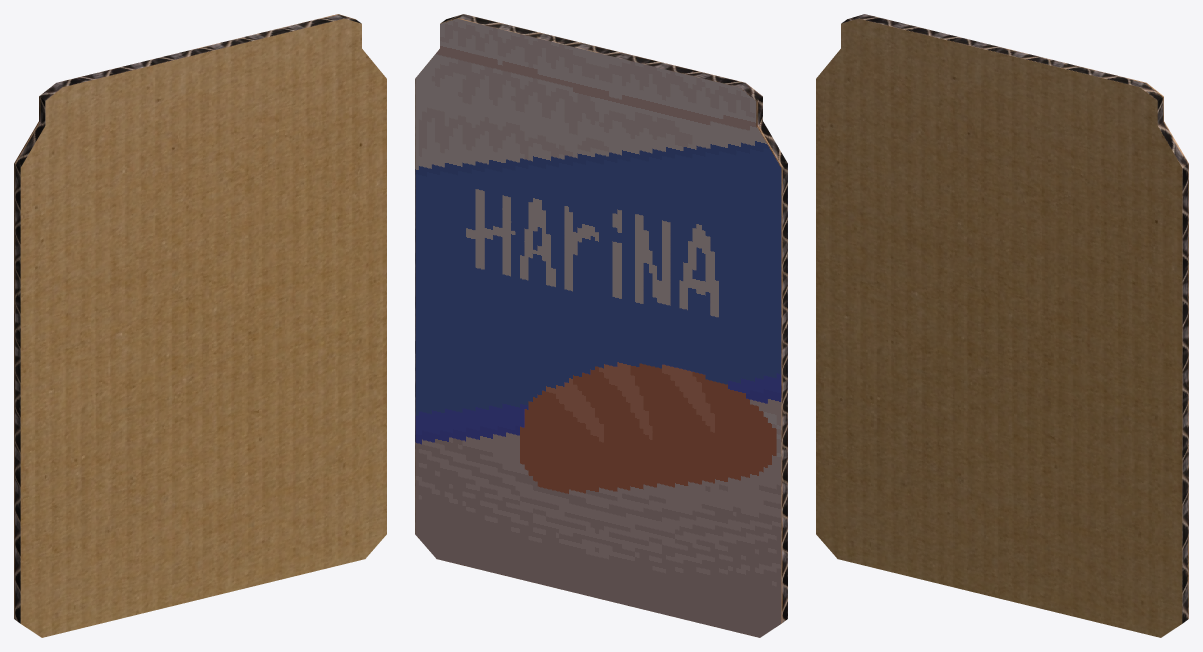
Rendered from HARINA.glb.
3 renders of one model, left to right at view 1: azimuth 30°, elevation 25°; view 2: azimuth 150°, elevation 25°; view 3: azimuth 330°, elevation 25°, orthographic.
Parts seen in each view (by area): view 1: HARINA; view 2: HARINA; view 3: HARINA.
Part boxes in pixels (box(x1,y1,x2,y2)): HARINA: box(14, 14, 386, 637); HARINA: box(415, 14, 787, 637); HARINA: box(816, 14, 1188, 637).
Bounding box in the file's own units: 2.97 × 4.22 × 0.09.
1 material, 1 textured.
